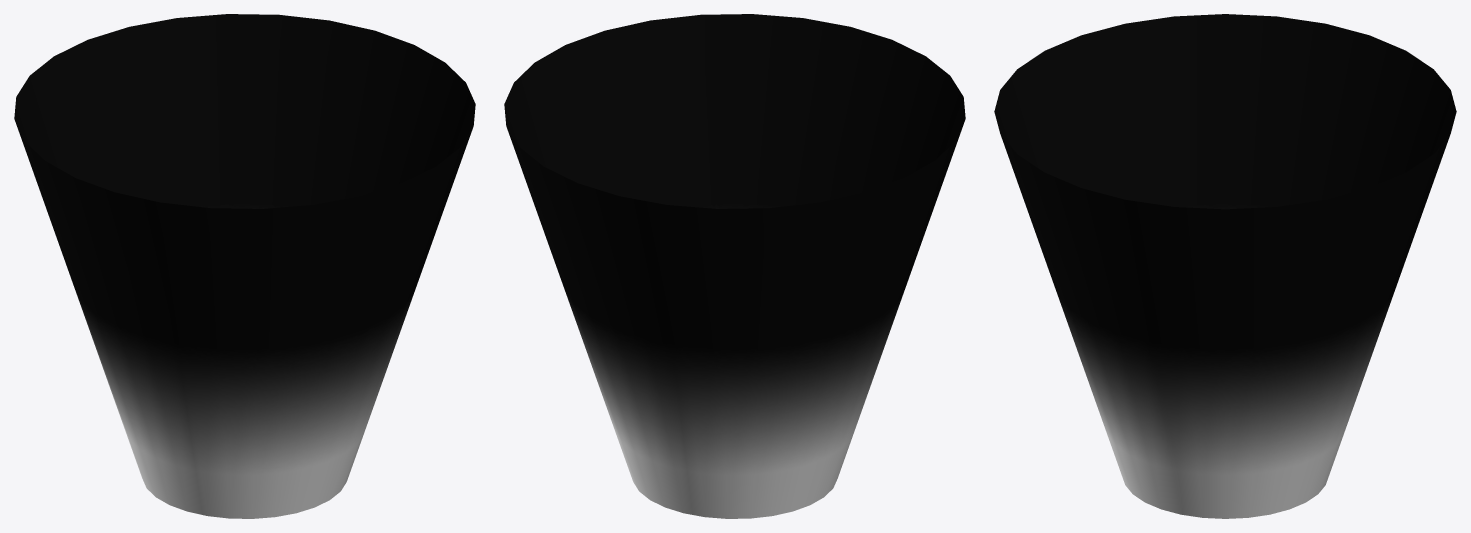
File: FX_BeamLight_MESH.FBX
3 views of the same model, side by side, from view 1: azimuth 30°, elevation 25°; view 2: azimuth 150°, elevation 25°; view 3: azimuth 270°, elevation 25° (orthographic).
Visible parts, largest first — view 1: FX_BeamLight_MESH; view 2: FX_BeamLight_MESH; view 3: FX_BeamLight_MESH.
Part boxes in pixels (x1,y1,x2,y2): FX_BeamLight_MESH: [14, 14, 475, 518]; FX_BeamLight_MESH: [504, 14, 965, 518]; FX_BeamLight_MESH: [994, 14, 1456, 518].
Bounding box in the file's own units: 17.28 × 15 × 17.28.
